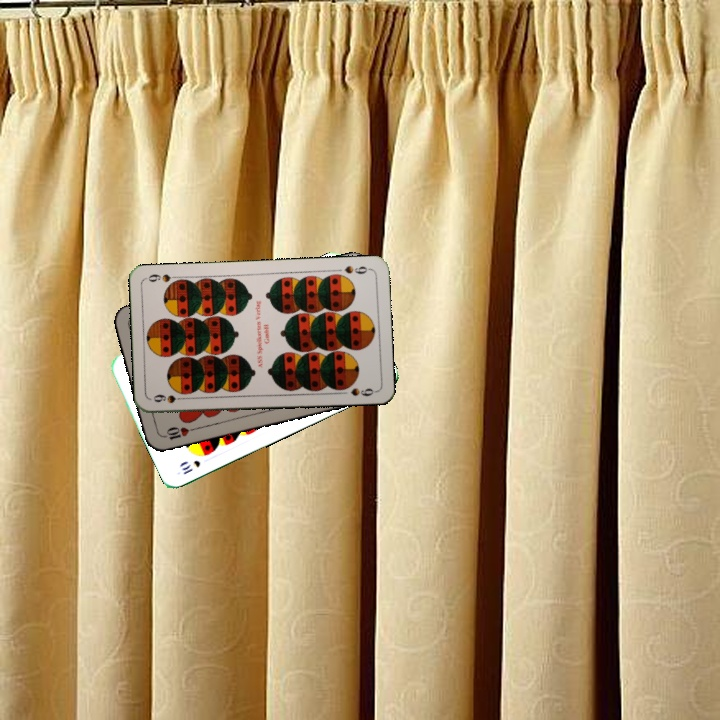H10: (157, 423, 198, 443)
S10: (178, 456, 203, 477)
S9: (149, 390, 189, 406), (341, 262, 373, 276)
